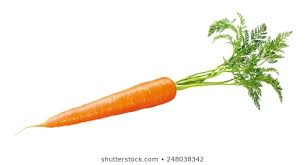carrot: (33, 74, 179, 135)
